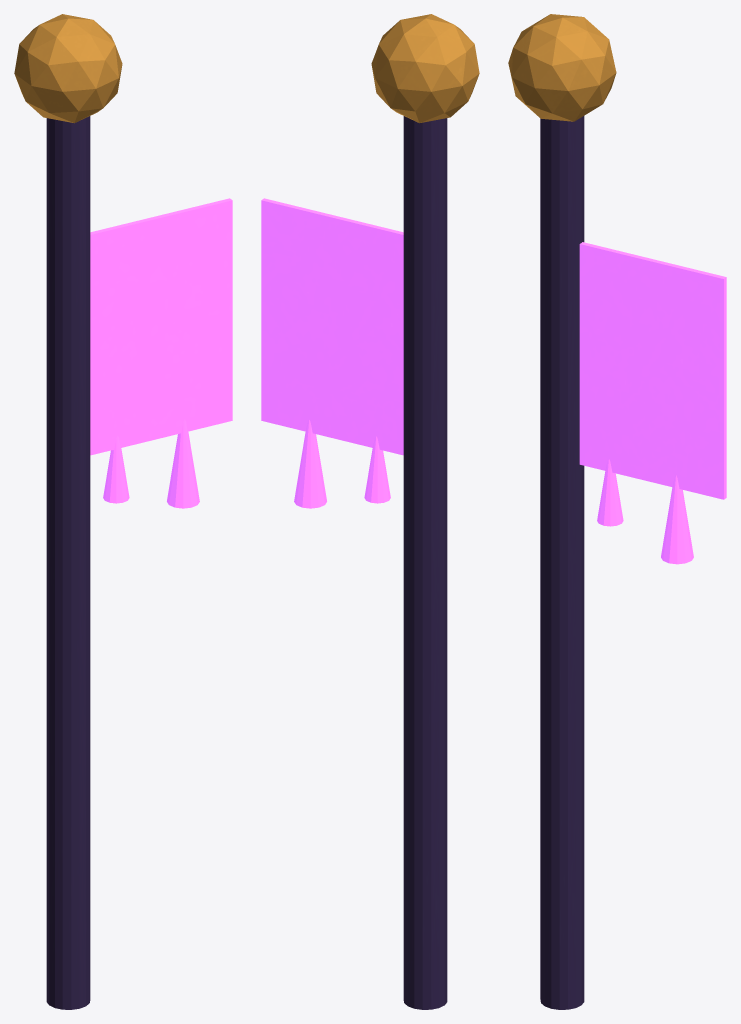
Rendered from abyssal-banner.glb.
3 views of the same model, side by side, from view 1: azimuth 30°, elevation 25°; view 2: azimuth 150°, elevation 25°; view 3: azimuth 330°, elevation 25° (orthographic).
Visible parts, largest first — view 1: banner-pole, banner-cloth, banner-finial, banner-tassel-0, banner-tassel-1; view 2: banner-pole, banner-cloth, banner-finial, banner-tassel-0, banner-tassel-1; view 3: banner-pole, banner-cloth, banner-finial, banner-tassel-0, banner-tassel-1.
Boxes of the visible parts, bbox=[...] form: banner-pole: bbox=[46, 116, 90, 1009]; banner-cloth: bbox=[90, 198, 232, 455]; banner-finial: bbox=[14, 14, 122, 123]; banner-tassel-0: bbox=[167, 419, 199, 508]; banner-tassel-1: bbox=[103, 436, 129, 503]; banner-pole: bbox=[403, 116, 447, 1009]; banner-cloth: bbox=[261, 198, 403, 455]; banner-finial: bbox=[371, 14, 479, 123]; banner-tassel-0: bbox=[294, 419, 326, 508]; banner-tassel-1: bbox=[364, 436, 390, 503]; banner-pole: bbox=[540, 116, 584, 1009]; banner-cloth: bbox=[579, 242, 726, 499]; banner-finial: bbox=[508, 14, 616, 121]; banner-tassel-0: bbox=[661, 475, 693, 564]; banner-tassel-1: bbox=[597, 459, 623, 526].
Bounding box in the file's own units: 0.2176 × 0.98 × 0.1.
Materials: 3 (3 with a texture image).
